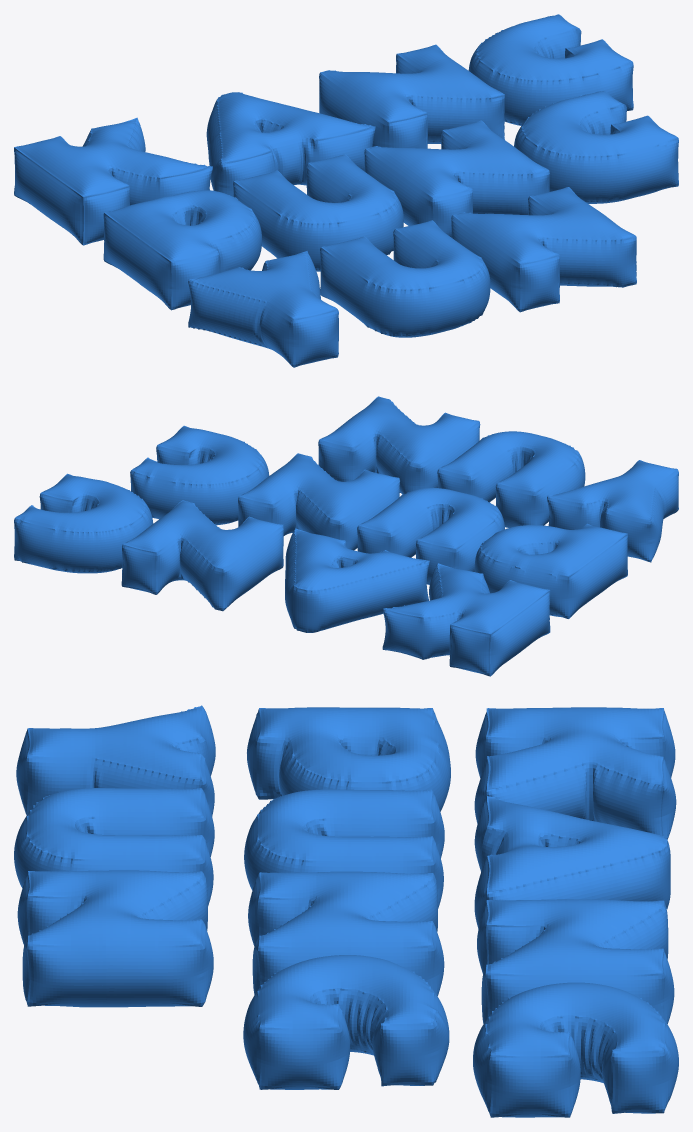
The model's file is name.glb.
The picture shows the model from 3 angles, top to bottom: view 1: azimuth 30°, elevation 25°; view 2: azimuth 150°, elevation 25°; view 3: azimuth 270°, elevation 25°; orthographic projection. The views are drawn at different scales.
Visible parts, largest first — view 1: Text.010, Text.011, Text.001, Text.008, Text.005, Text.007, Text.003, Text.006, Text.009, Text.004, Text.002; view 2: Text.001, Text.003, Text.002, Text.004, Text.005, Text.011, Text.010, Text.008, Text.007, Text.006, Text.009; view 3: Text.011, Text.004, Text.008, Text.001, Text.003, Text.007, Text.005, Text.002, Text.010, Text.006, Text.009.
Part boxes in pixels (box(x1,y1,x2,y2)): Text.010: box(320, 220, 490, 337); Text.011: box(451, 187, 636, 312); Text.001: box(14, 117, 212, 245); Text.008: box(514, 90, 678, 203); Text.005: box(103, 190, 261, 310); Text.007: box(364, 120, 549, 237); Text.003: box(319, 44, 504, 148); Text.006: box(233, 154, 403, 271); Text.009: box(188, 251, 338, 367); Text.004: box(468, 14, 633, 125); Text.002: box(206, 92, 375, 196); Text.001: box(382, 563, 550, 676); Text.003: box(121, 500, 283, 611); Text.002: box(285, 528, 429, 632); Text.004: box(14, 473, 153, 573); Text.005: box(474, 523, 627, 618); Text.011: box(318, 396, 480, 494); Text.010: box(437, 431, 585, 527); Text.008: box(130, 425, 269, 525); Text.007: box(238, 453, 400, 550); Text.006: box(357, 487, 504, 584); Text.009: box(547, 460, 678, 562); Text.011: box(17, 870, 213, 1007); Text.004: box(473, 982, 678, 1117); Text.008: box(243, 955, 449, 1089); Text.001: box(474, 707, 676, 838); Text.003: box(477, 899, 674, 1023); Text.007: box(248, 871, 444, 995); Text.005: box(247, 707, 450, 811); Text.002: box(474, 795, 670, 929); Text.010: box(14, 788, 214, 905); Text.006: box(244, 789, 444, 908); Text.009: box(16, 705, 215, 816).
Size of the model in its own units: 2.21 by 0.2538 by 1.74.
